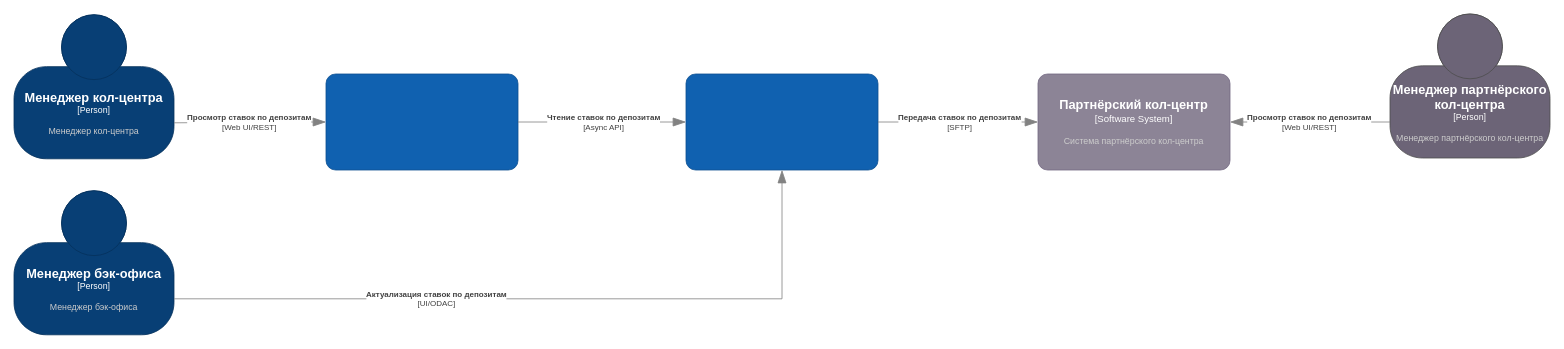
This 1564x349 diagram has some shape labels left out. Each missing label, with the centre of its shape:
"АБС [Software System] Автоматизированная банковская система" goes at point 781,121.
"Кол-центр [Software System] Система кол-центра" goes at point 421,121.
